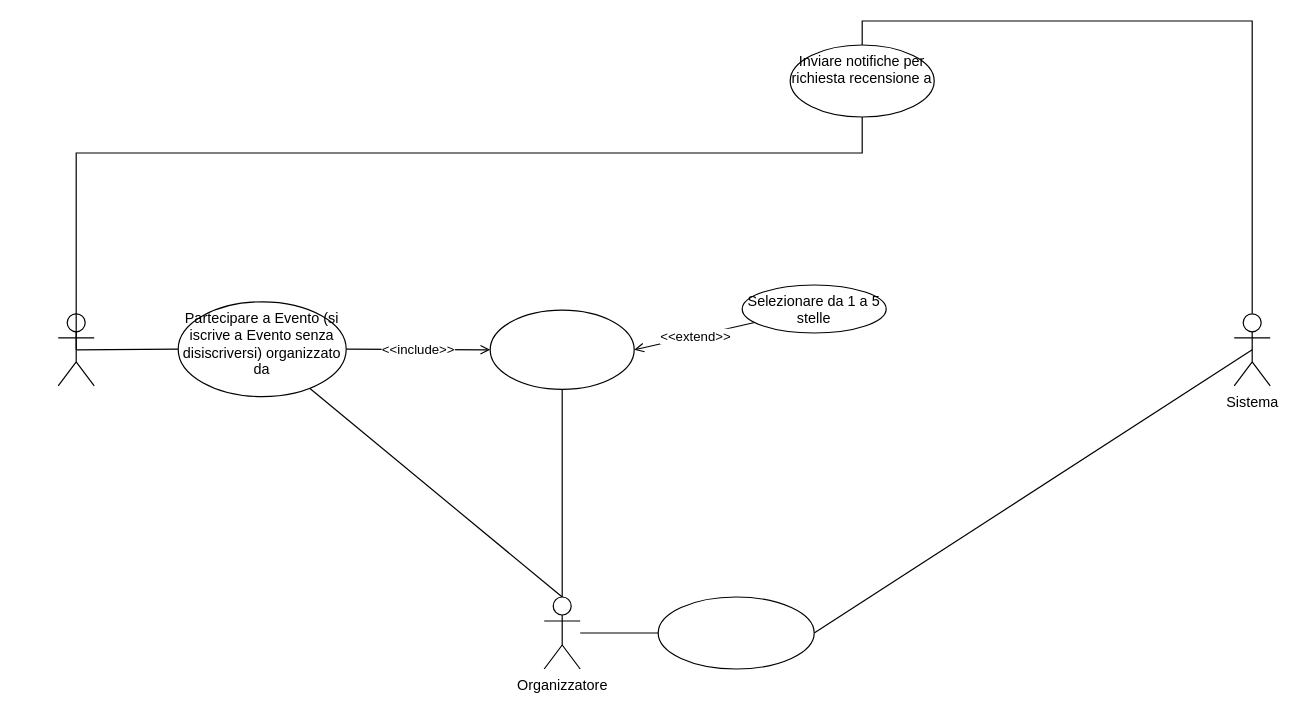
The diagram is 1298 pixels wide and 715 high, and some of its shapes have lost their labels. Here are the shapes that lost their labels. From the top down, the centre of each, then its label:
the point at 75,349: Utente Personale
the point at 561,349: Ricevere richiesta di rating tramite notifica per
the point at 735,632: Avere associata la media delle recensioni calcolata da
